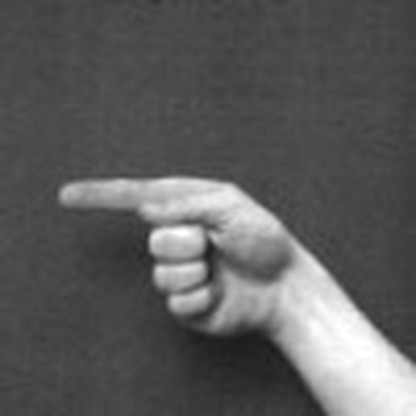g: (44, 161, 293, 339)
